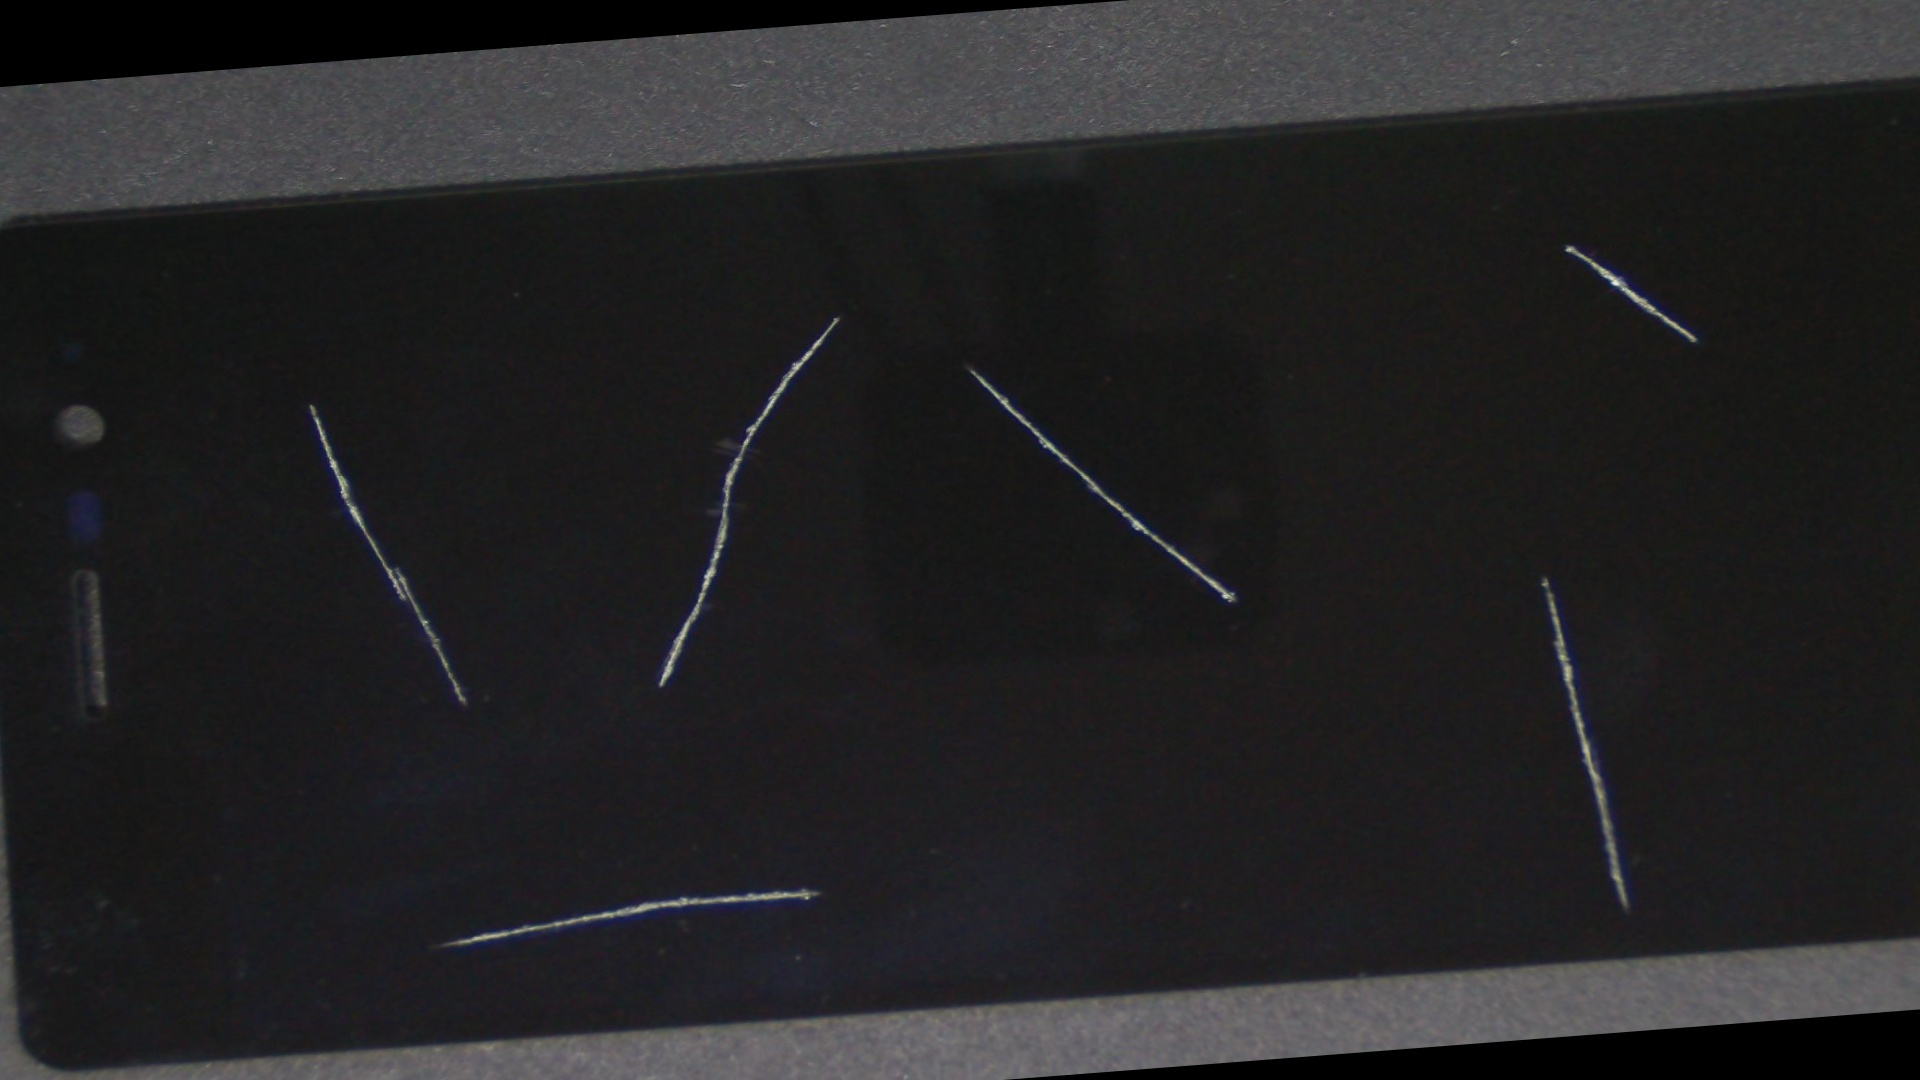oil: (719, 224, 1920, 938), (287, 439, 1055, 1080), (431, 149, 1506, 580), (731, 59, 1920, 444), (365, 135, 1309, 497), (102, 219, 520, 587)
